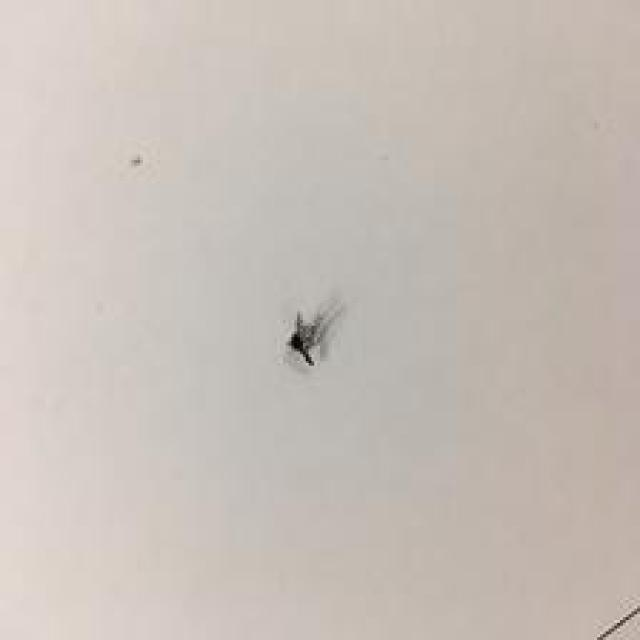Aedes albopictus: (284, 296, 344, 367)
